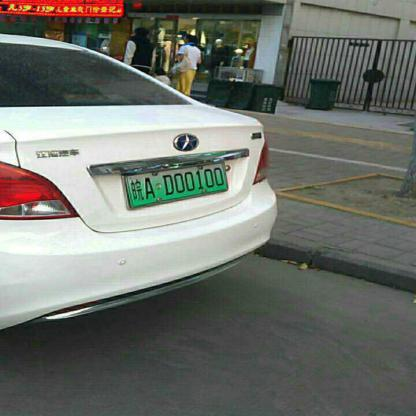lp: (125, 162, 228, 206)
